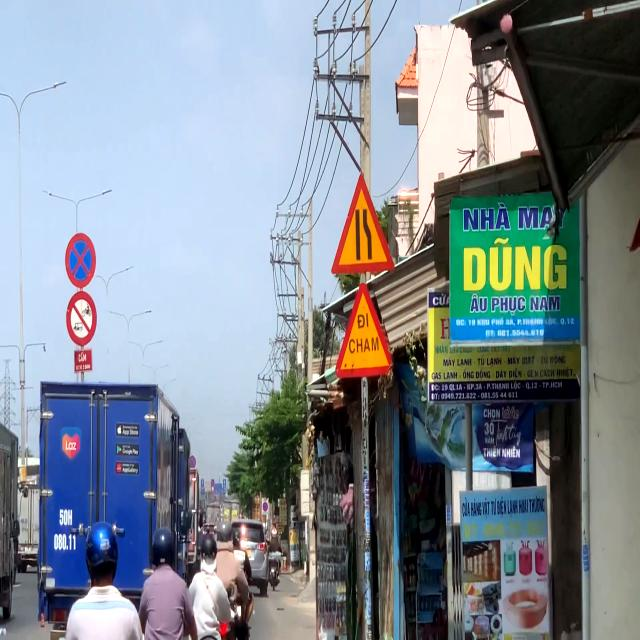P.130: (65, 232, 96, 289), (189, 455, 196, 469), (263, 502, 268, 512)
W.207c: (330, 172, 395, 276)
W.245a: (334, 282, 396, 379)
